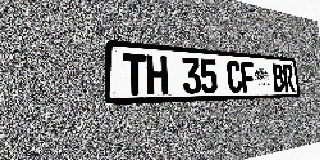3: (182, 57, 201, 94)
5: (200, 59, 218, 94)
B: (272, 64, 285, 92)
C: (226, 60, 243, 93)
F: (240, 61, 256, 93)
H: (146, 55, 168, 95)
R: (282, 64, 295, 92)
T: (123, 53, 147, 95)
